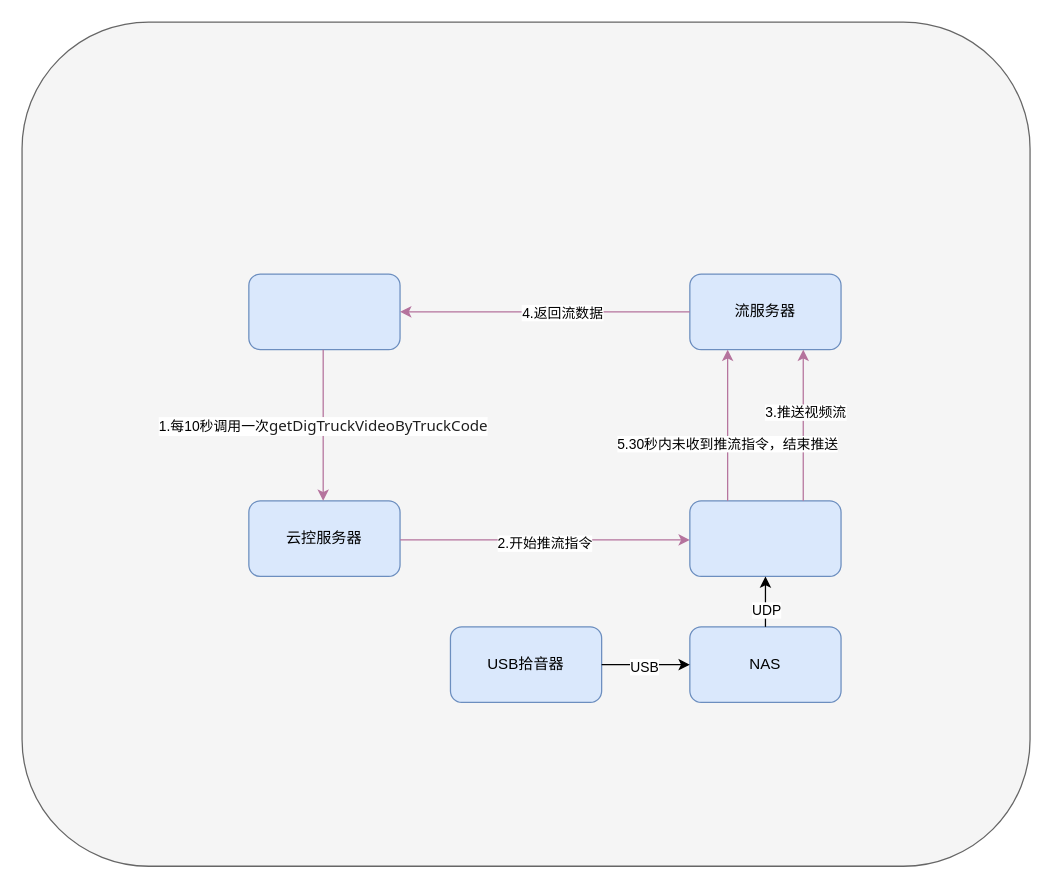
This 1052x888 diagram has some shape labels left out. The shapes that lost their labels are listed below. From the top down, each one's box as (x1, y1, x2, y2) in pixels, then its label:
(248, 273, 400, 350): 网页和驾驶舱
(689, 500, 841, 576): MDC
